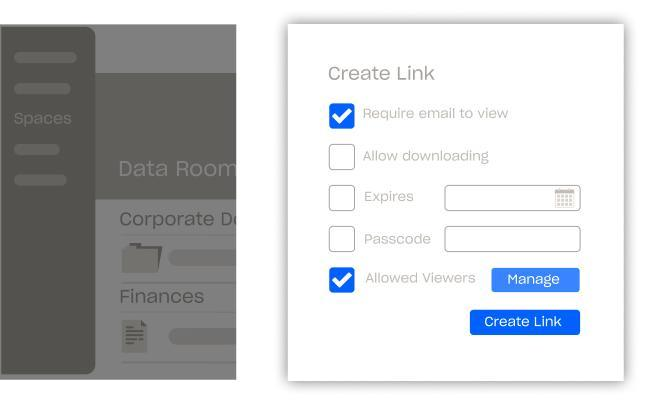button: (471, 310, 581, 337), (492, 268, 581, 293)
checkbox: (329, 144, 357, 172), (329, 103, 357, 130), (330, 185, 355, 212), (331, 227, 356, 254), (331, 269, 355, 293)
icon: (555, 189, 576, 208)
input: (446, 185, 583, 213), (445, 227, 583, 253)
label: (363, 107, 516, 124), (362, 149, 494, 166), (365, 272, 480, 288), (330, 67, 435, 83), (362, 232, 433, 248), (362, 188, 418, 206)
